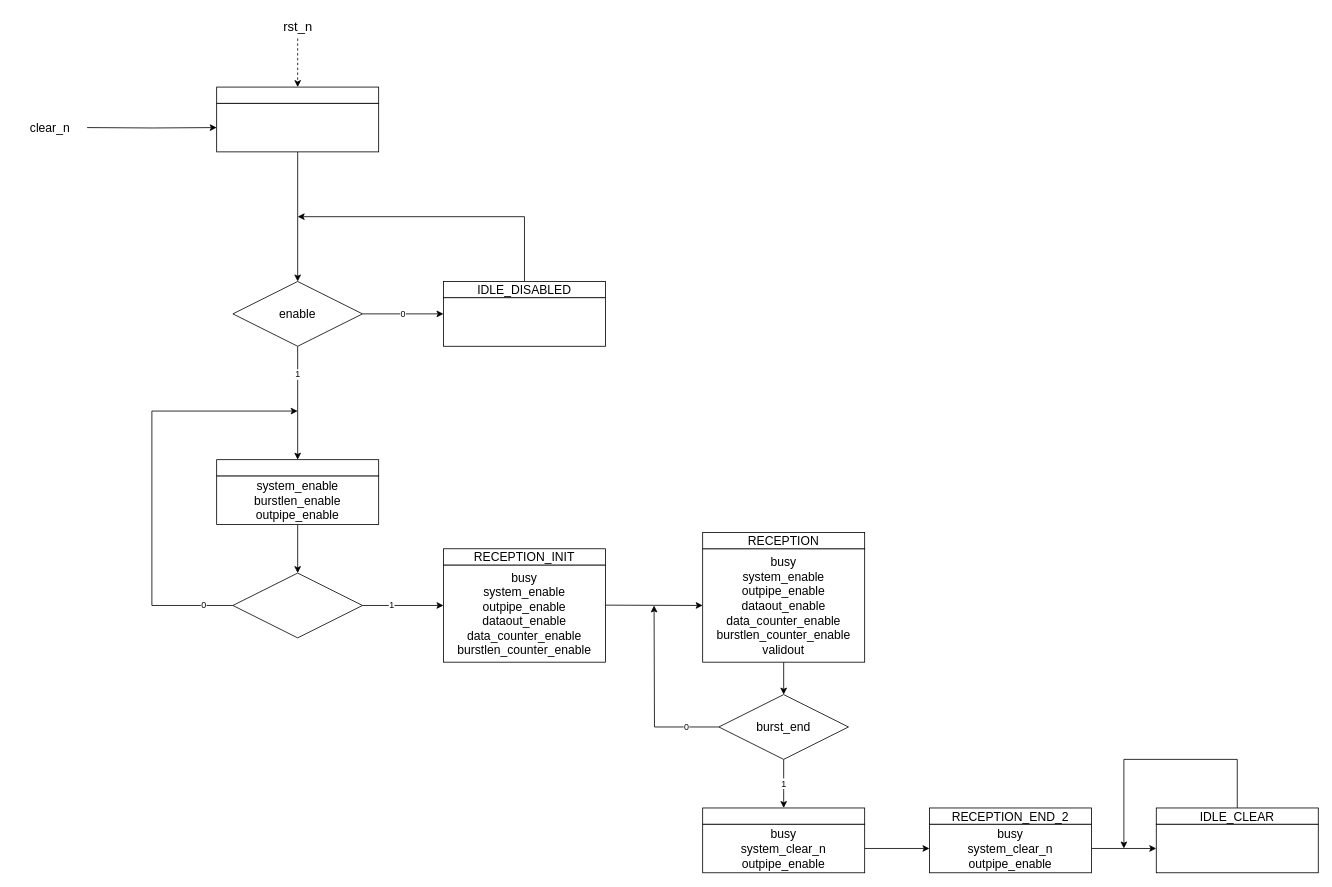
The diagram is 1332 pixels wide and 887 high, and some of its shapes have lost their labels. The shapes that lost their labels are listed below. From the top down, each one's centre as x and y in pixels, then its label:
[297,94]: RESET
[297,127]: outpipe_clear_n system_clear_n
[297,467]: IDLE
[297,605]: start_sampling
[783,815]: RECEPTION_END_1
[1236,848]: system_clear_n outpipe_enable
